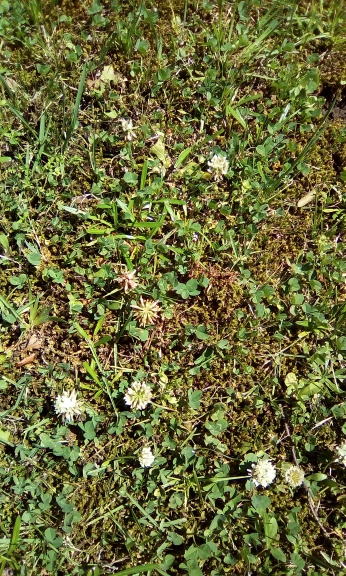4leaf: (175, 279, 200, 300)
